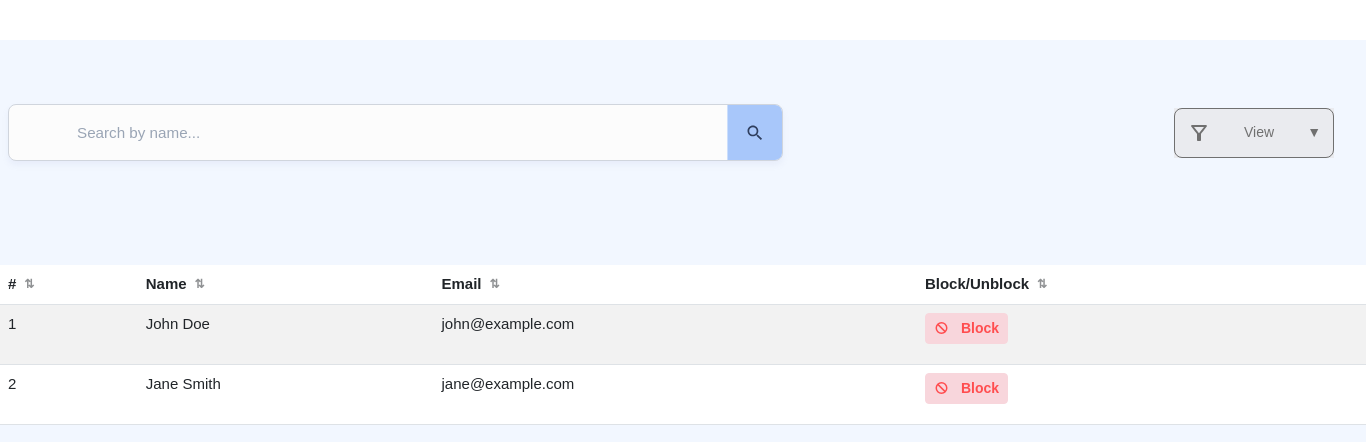
Test: BlockUser Component › View Switching › displays empty state with noSpammerFound message when blocked tab is selected and searchTerm is empty
This screenshot has width=1366, height=442.
What coordinates should you click on to do the following:
click the button with test id "blockUserView-toggle"
I would click on:
 (1254, 132)
Its box is [1174,108,1334,158].
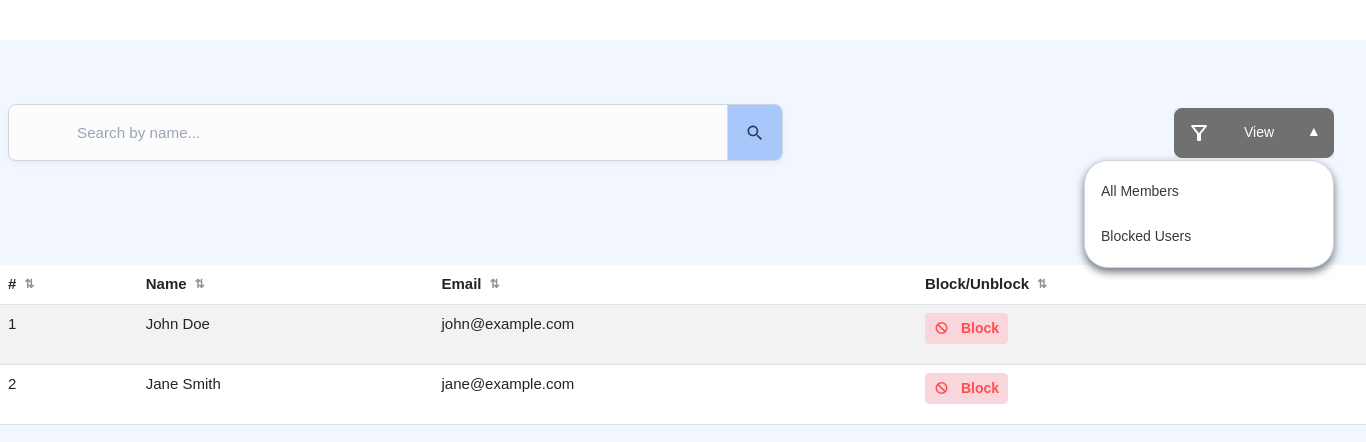
What coordinates should you click on to do the following:
click the option with test id "blockUserView-item-blockedUsers"
I would click on:
 (1146, 236)
Its box is [1101,228,1191,244].
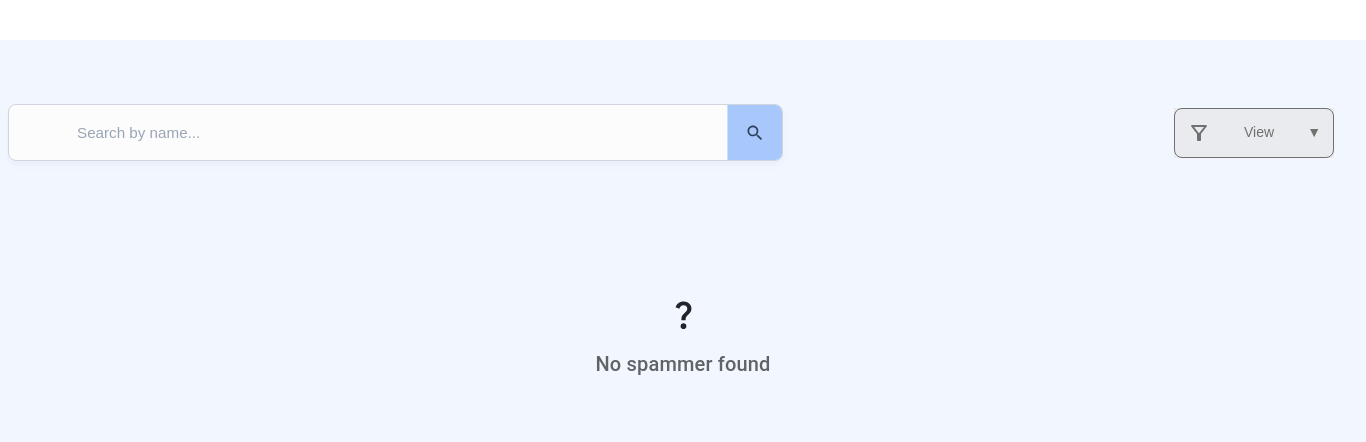
Now the message "No spammer found" is shown, box [596,297,770,376]
Now the heading "No spammer found" is shown, box [596,348,770,380]
